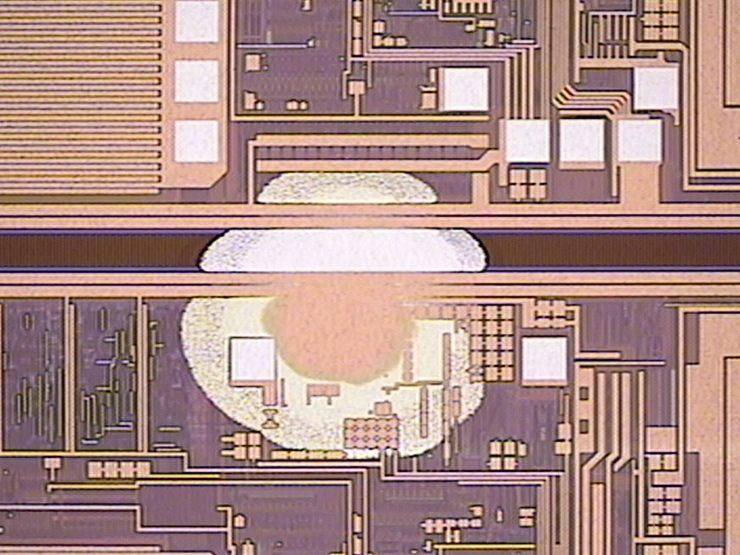BLOCK ETCH: (173, 162, 501, 463)
